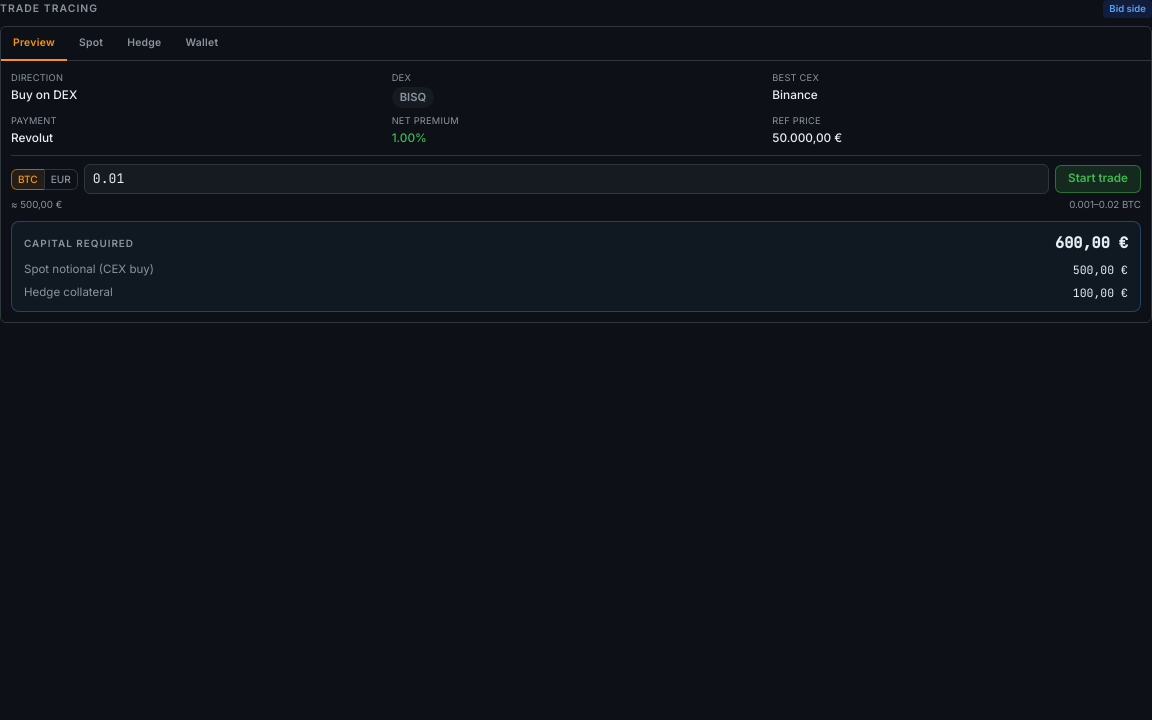
Test: TradeTracingPanel custom quotes › disables confirmation when the quote has expired
Click the button "Start trade" at {"x": 1098, "y": 179}, box top-left (1055, 166), bottom-right (1141, 193)
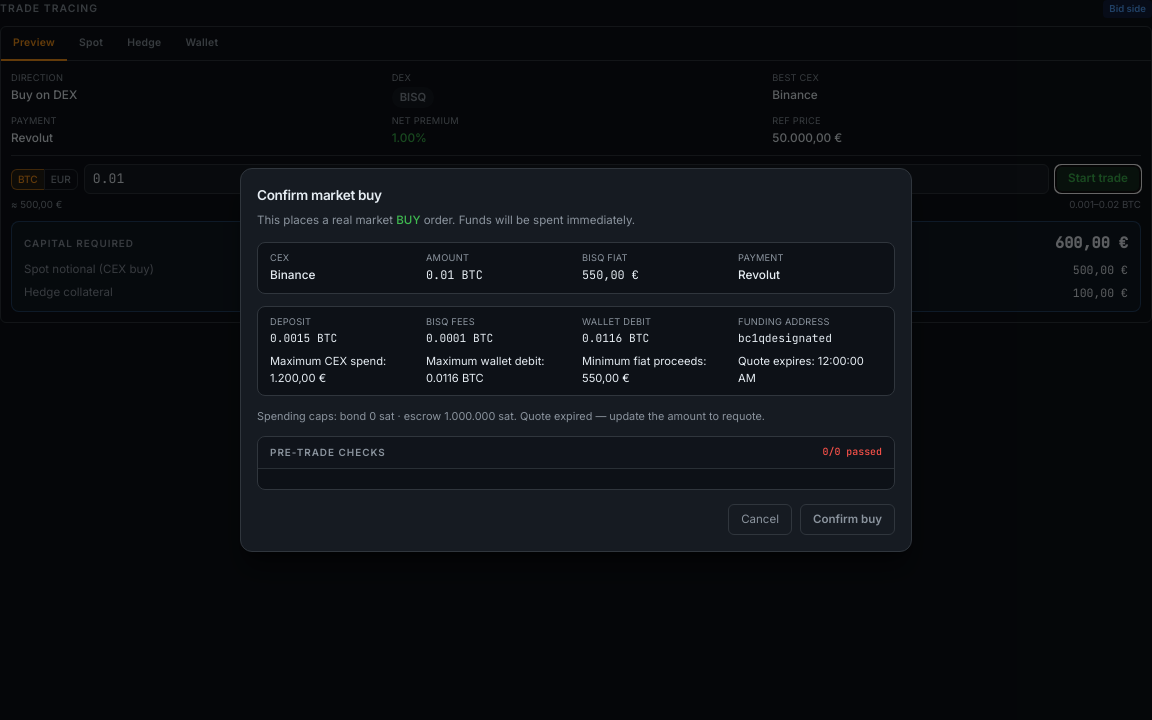
Check: the button "Confirm buy" is disabled, box top-left (800, 504), bottom-right (895, 535)
